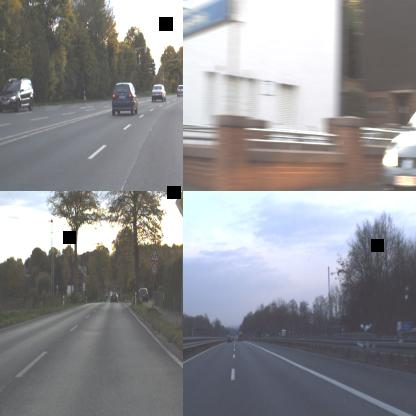SCHOOL CROSSING: (149, 246, 160, 262)
priority road: (175, 191, 183, 219)
speed limit 120: (308, 312, 315, 326), (183, 313, 185, 327)
speed limit 50: (150, 262, 158, 275)
